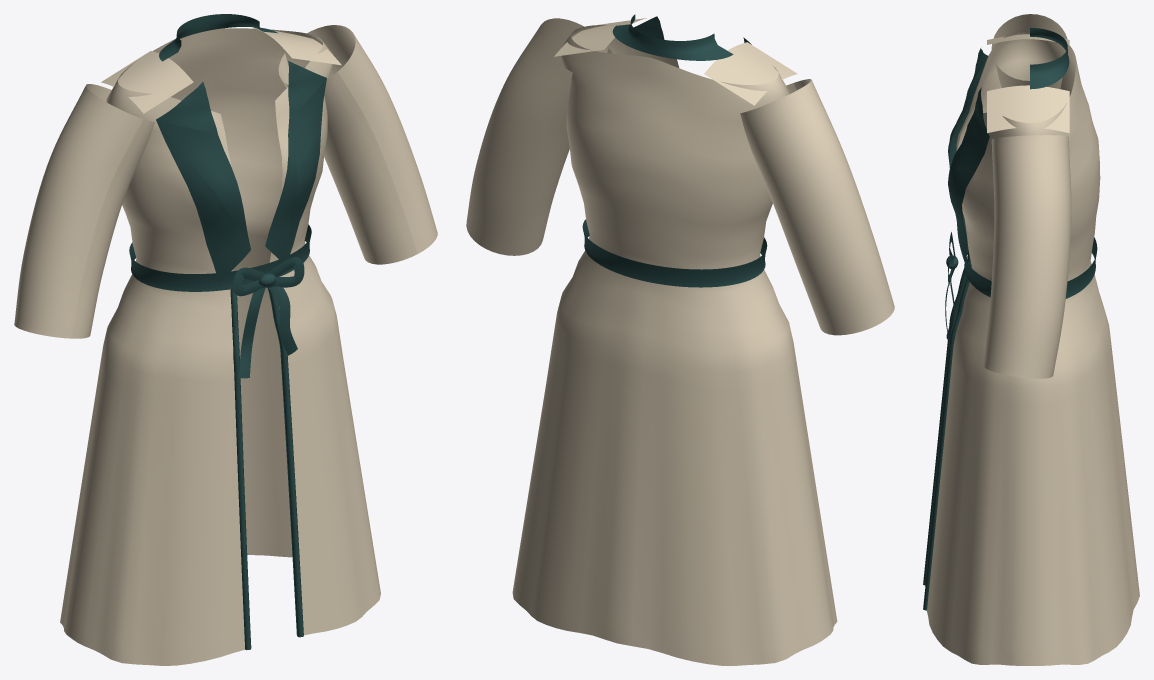
Rendered from abaya.glb.
The picture shows the model from 3 angles, left to right: view 1: azimuth 30°, elevation 25°; view 2: azimuth 150°, elevation 25°; view 3: azimuth 270°, elevation 25°; orthographic projection. The views are drawn at different scales.
Parts seen in each view (by area): view 1: body.open-robe, sleeves.robe-sleeve--1, sleeves.robe-sleeve-1, collar.lapel--1, collar.lapel-1, body.shoulder--1, collar.front-facing--1, belt.wrap-belt, collar.front-facing-1, collar.back-neck-band, body.shoulder-1, belt.tie-tail-left (+3 smaller); view 2: body.open-robe, sleeves.robe-sleeve--1, sleeves.robe-sleeve-1, belt.wrap-belt, body.shoulder--1, collar.back-neck-band, body.shoulder-1; view 3: body.open-robe, sleeves.robe-sleeve-1, body.shoulder-1, collar.lapel-1, collar.front-facing--1, sleeves.robe-sleeve--1, collar.back-neck-band, collar.front-facing-1, belt.wrap-belt, collar.lapel--1.
Part boxes in pixels (<box>): body.open-robe: <box>60,28,380,665</box>; sleeves.robe-sleeve--1: <box>14,84,154,338</box>; sleeves.robe-sleeve-1: <box>278,25,437,264</box>; collar.lapel--1: <box>156,82,250,282</box>; collar.lapel-1: <box>265,61,326,262</box>; body.shoulder--1: <box>101,51,193,113</box>; collar.front-facing--1: <box>267,288,303,637</box>; belt.wrap-belt: <box>129,224,311,291</box>; collar.front-facing-1: <box>230,289,251,650</box>; collar.back-neck-band: <box>159,14,277,61</box>; body.shoulder-1: <box>250,27,341,65</box>; belt.tie-tail-left: <box>239,288,265,378</box>; body.open-robe: <box>512,25,837,665</box>; sleeves.robe-sleeve--1: <box>740,79,894,335</box>; sleeves.robe-sleeve-1: <box>466,18,611,255</box>; belt.wrap-belt: <box>582,219,767,287</box>; body.shoulder--1: <box>704,42,797,105</box>; collar.back-neck-band: <box>612,14,733,60</box>; body.shoulder-1: <box>554,18,646,56</box>; body.open-robe: <box>927,29,1139,665</box>; sleeves.robe-sleeve-1: <box>983,135,1071,378</box>; body.shoulder-1: <box>987,85,1069,133</box>; collar.lapel-1: <box>948,87,989,271</box>; collar.front-facing--1: <box>923,262,971,610</box>; sleeves.robe-sleeve--1: <box>991,14,1067,88</box>; collar.back-neck-band: <box>1030,28,1069,89</box>; collar.front-facing-1: <box>923,247,970,585</box>; belt.wrap-belt: <box>964,236,1097,298</box>; collar.lapel--1: <box>948,48,988,235</box>.
Size of the model in its own units: 1.01 by 1.35 by 0.4765.
